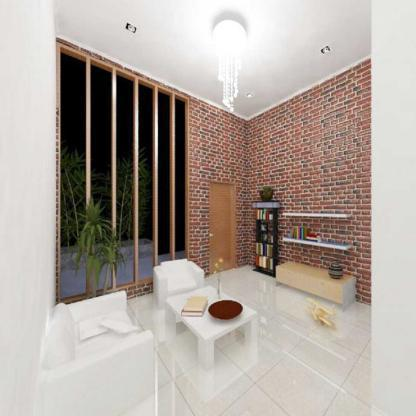buku: (179, 296, 206, 318)
sova: (45, 297, 159, 416), (153, 258, 205, 292)
tanaman: (166, 285, 260, 367), (79, 201, 121, 285)
